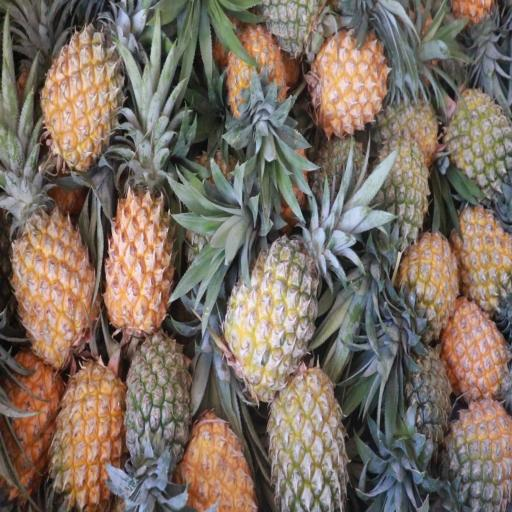------------------------------: (228, 244, 315, 390), (272, 366, 346, 512)
Pineapple - v8 v1: (12, 192, 94, 360), (52, 358, 125, 507), (44, 31, 121, 165), (106, 181, 173, 329), (0, 355, 63, 495), (313, 32, 390, 130), (185, 411, 253, 512), (447, 303, 512, 406), (225, 28, 286, 124), (458, 206, 512, 310), (403, 233, 456, 338)
